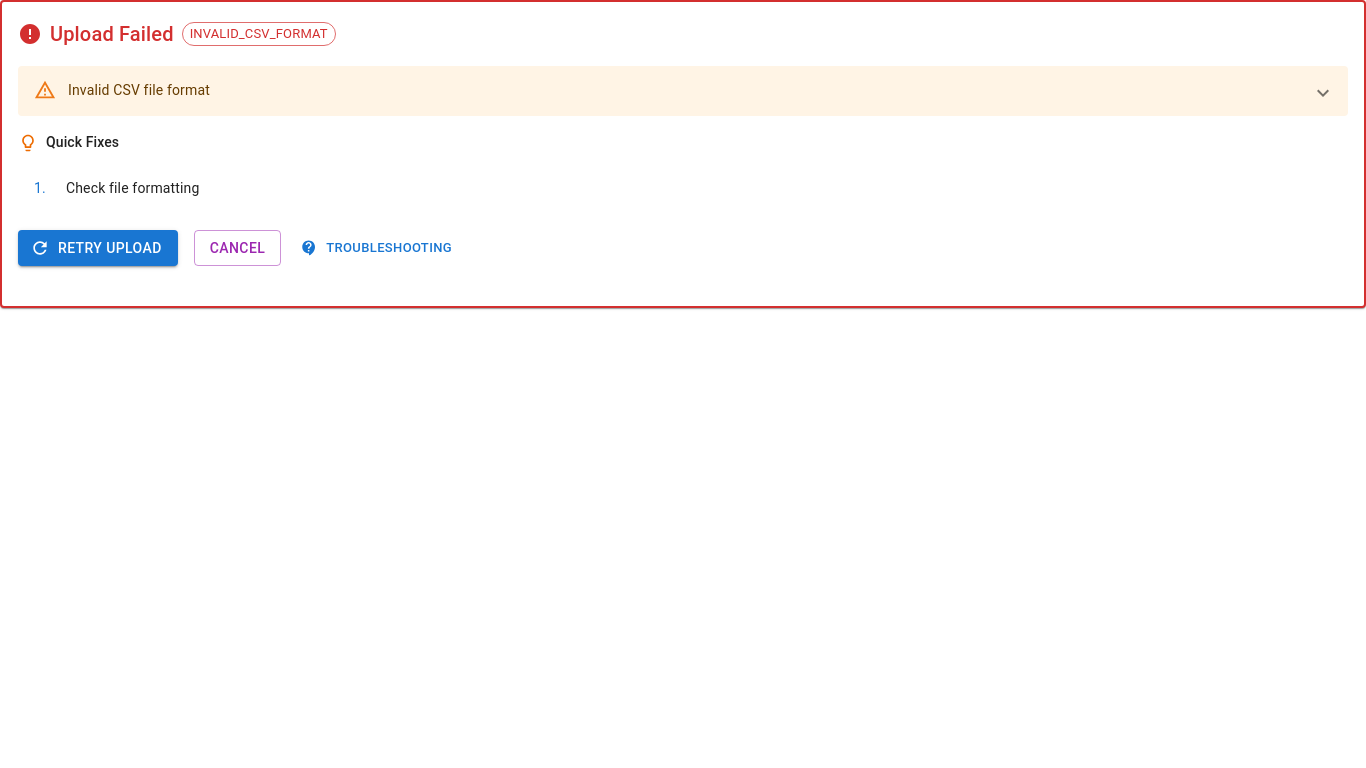
Test: ErrorRecoveryPanel Component › provides different troubleshooting tips based on error code
// Click troubleshooting button
What coordinates should you click on to do the following:
click the button "Troubleshooting"
I would click on:
 (377, 248)
Its box is [297,230,457,266].
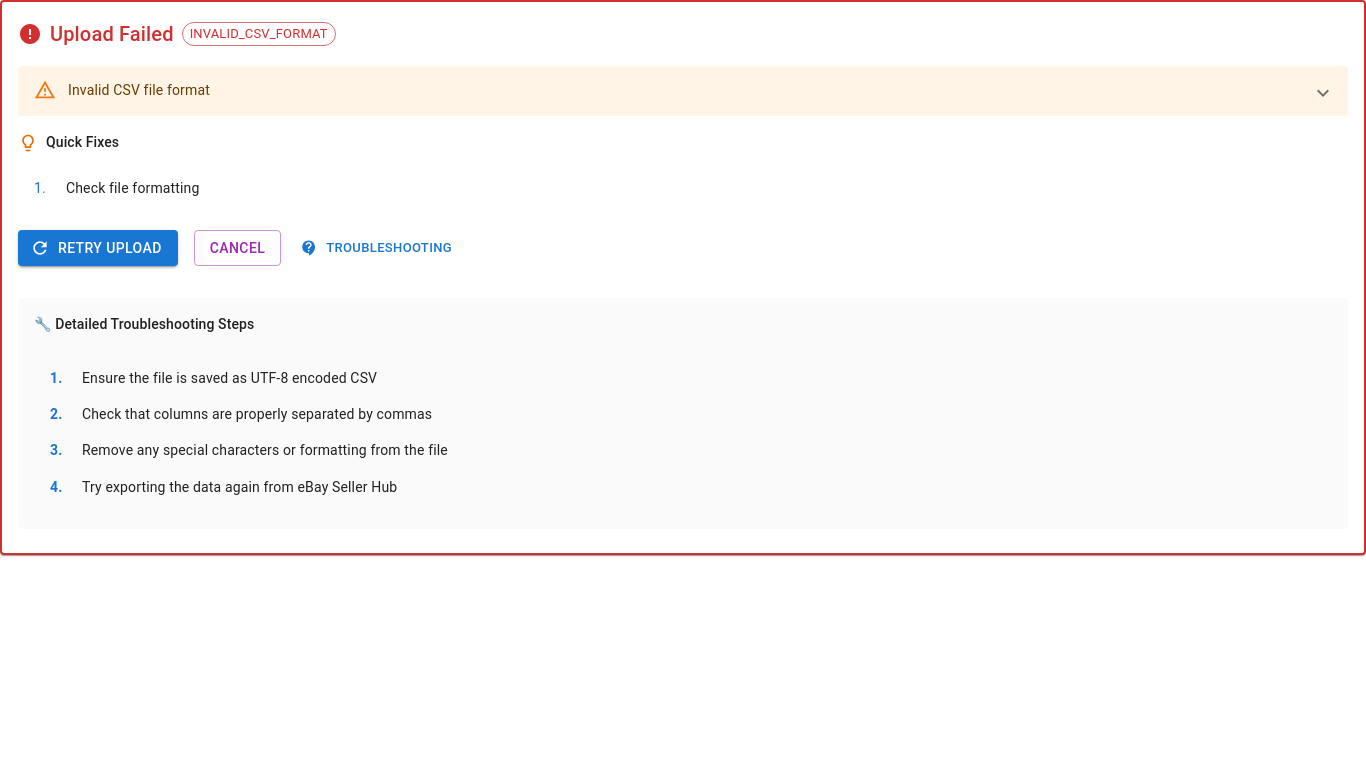
Expected: the text "Ensure the file is saved as UTF-8 encoded CSV" is shown, [82,370,377,386]
